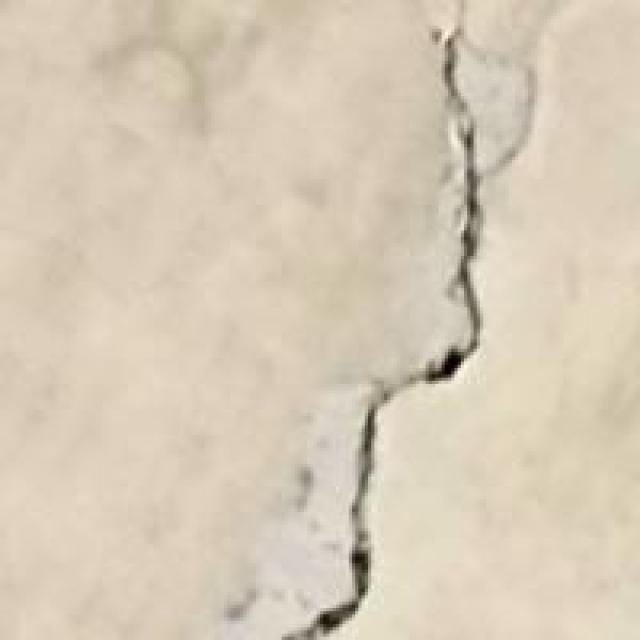crack: (288, 19, 515, 637)
